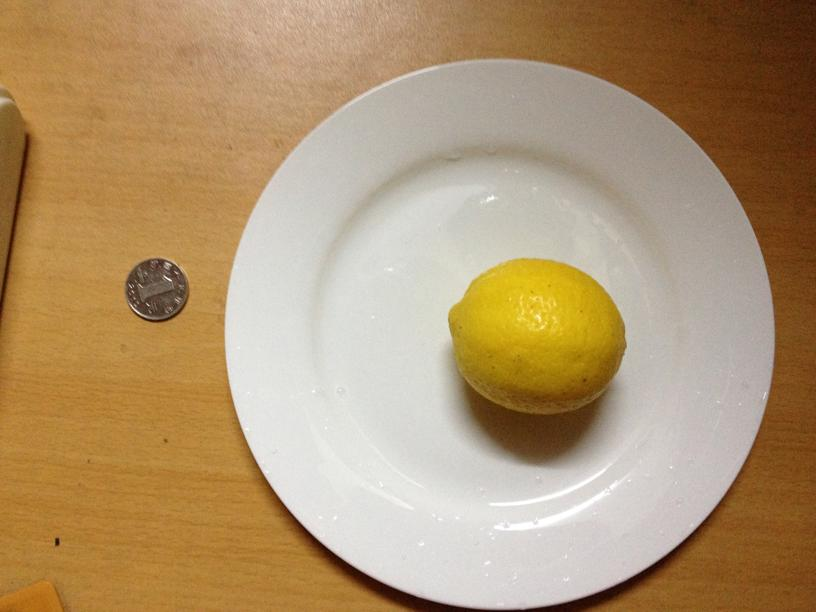coin: (125, 257, 189, 323)
lemon: (447, 257, 625, 416)
